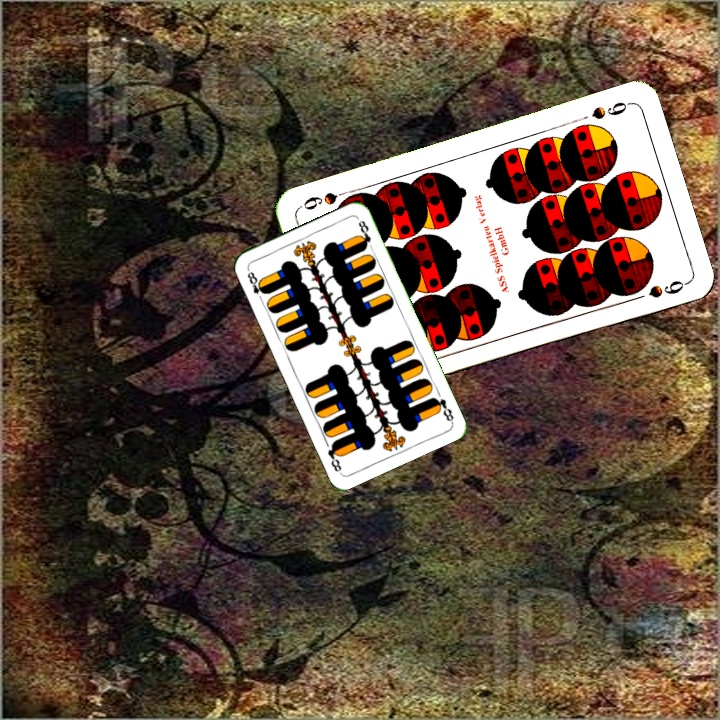E8: (243, 268, 269, 304), (428, 393, 456, 425)
S9: (587, 97, 633, 122)
